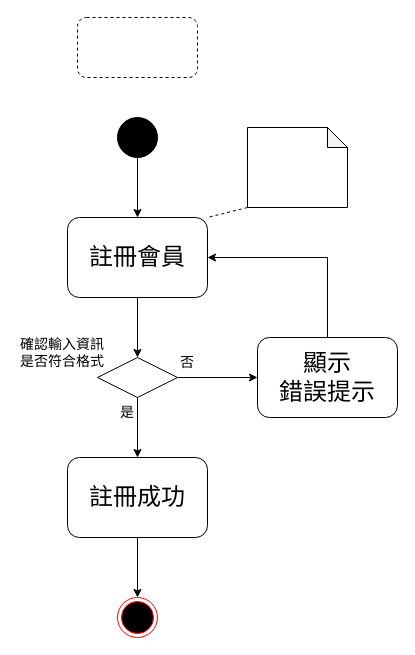
This 415x655 diagram has some shape labels left out. Here are the shapes that lost their labels. From the top down, the box of each, then its label:
(76, 16, 198, 78): 註冊
(246, 126, 348, 208): 2.1 信箱 姓名 密碼
